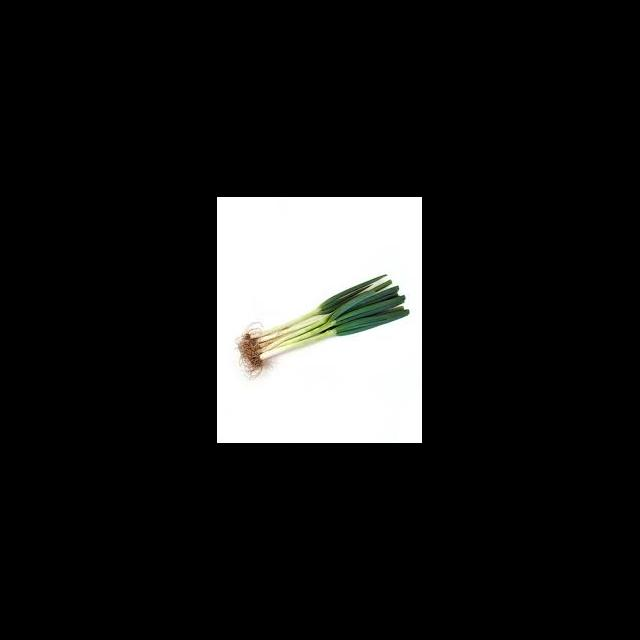green_onion: (230, 248, 422, 384)
